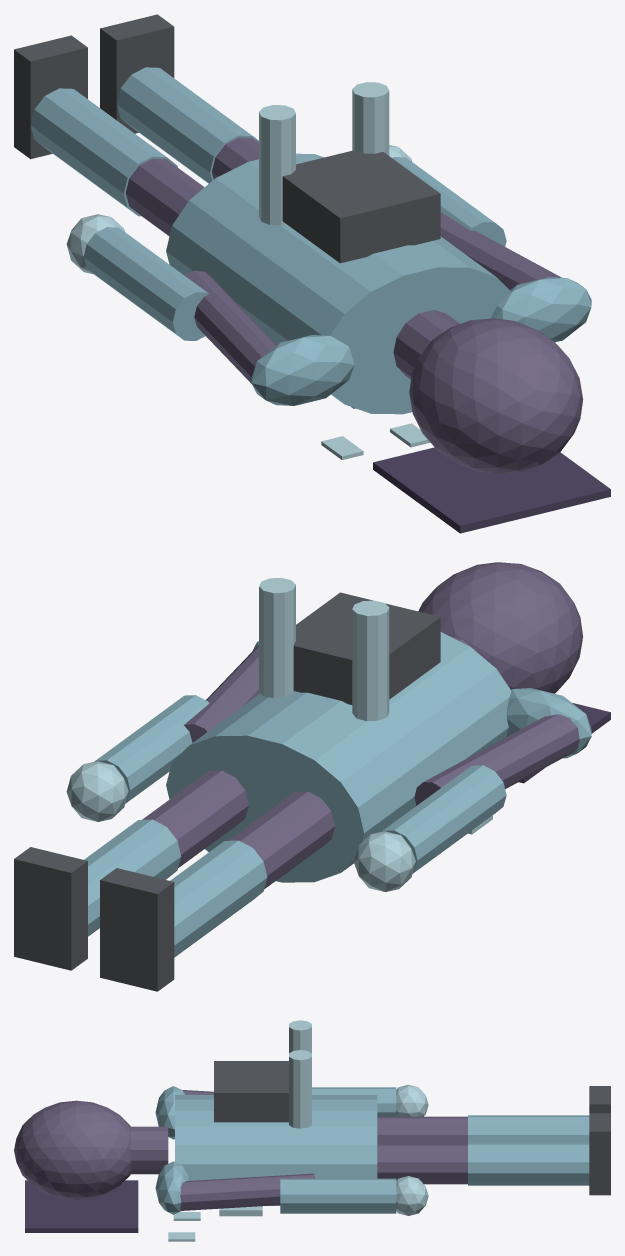
Rendered from SWN-014_ilyx_vorn.glb.
3 views of the same model, one above another, from view 1: azimuth 30°, elevation 25°; view 2: azimuth 150°, elevation 25°; view 3: azimuth 270°, elevation 25° (orthographic). The views are drawn at different scales.
Visible parts, largest first — view 1: body_spine, head, back_thruster_pack, shadow_veil, greave_-1, greave_1, forearm_gauntlet_-1, shoulder_plate_-1, boot_-1, boot_1, shoulder_plate_1, upper_arm_-1 (+8 smaller); view 2: body_spine, head, back_thruster_pack, boot_-1, boot_1, greave_-1, forearm_gauntlet_-1, thigh_-1, thigh_1, upper_arm_-1, forearm_gauntlet_1, greave_1 (+7 smaller); view 3: body_spine, head, greave_1, shadow_veil, back_thruster_pack, forearm_gauntlet_1, thigh_1, greave_-1, upper_arm_1, thigh_-1, boot_1, neck (+9 smaller).
Part boxes in pixels (left/top/right/bottom): body_spine: left=166, top=153, right=510, bottom=414; head: left=409, top=318, right=583, bottom=473; back_thruster_pack: left=282, top=150, right=440, bottom=263; shadow_veil: left=373, top=447, right=610, bottom=533; greave_-1: left=30, top=88, right=177, bottom=216; greave_1: left=116, top=67, right=258, bottom=183; forearm_gauntlet_-1: left=83, top=227, right=208, bottom=340; shoulder_plate_-1: left=251, top=335, right=354, bottom=405; boot_-1: left=14, top=35, right=87, bottom=159; boot_1: left=100, top=14, right=174, bottom=133; shoulder_plate_1: left=490, top=277, right=591, bottom=342; upper_arm_-1: left=184, top=270, right=276, bottom=383; body_spine: left=166, top=632, right=511, bottom=882; head: left=418, top=562, right=583, bottom=693; back_thruster_pack: left=293, top=592, right=440, bottom=704; boot_-1: left=100, top=868, right=174, bottom=991; boot_1: left=14, top=847, right=87, bottom=970; greave_-1: left=170, top=840, right=267, bottom=957; forearm_gauntlet_-1: left=382, top=765, right=506, bottom=873; thigh_-1: left=228, top=791, right=334, bottom=888; thigh_1: left=142, top=770, right=248, bottom=867; upper_arm_-1: left=414, top=714, right=579, bottom=805; forearm_gauntlet_1: left=94, top=695, right=209, bottom=803; greave_1: left=84, top=819, right=181, bottom=936; body_spine: left=175, top=1095, right=377, bottom=1205; head: left=14, top=1100, right=131, bottom=1199; greave_1: left=468, top=1142, right=589, bottom=1185; shadow_veil: left=25, top=1180, right=138, bottom=1232; back_thruster_pack: left=214, top=1061, right=288, bottom=1122; forearm_gauntlet_1: left=280, top=1178, right=396, bottom=1213; thigh_1: left=377, top=1144, right=467, bottom=1184; greave_-1: left=468, top=1115, right=589, bottom=1142; upper_arm_1: left=180, top=1173, right=315, bottom=1210; thigh_-1: left=377, top=1116, right=467, bottom=1143; boot_1: left=589, top=1113, right=610, bottom=1195; neck: left=130, top=1126, right=168, bottom=1174.
Size of the model in its own units: 0.95 by 0.725 by 2.21.
